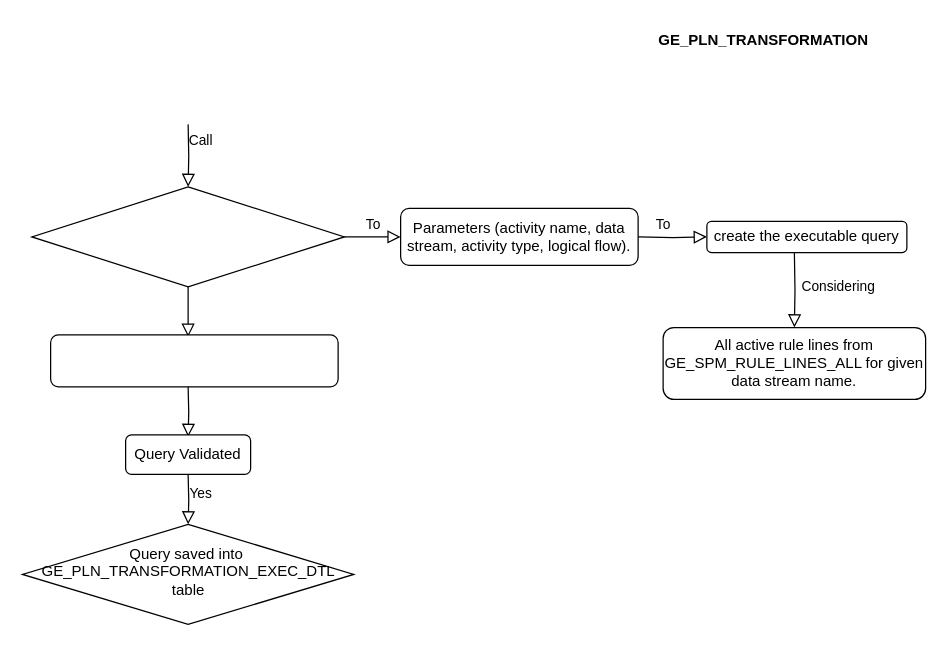
Image size: 948x646. Some labels were removed from this diagram. The shapes that lost their labels are listed below. From the top down, each one's centre as x and y in pixels, then its label:
At [187,236]: "GE_PLN_TRANSFORMATION. CREATE_QUERY()".
At [193,360]: "Conditions fetched from the rule lines are appended with the base query".
